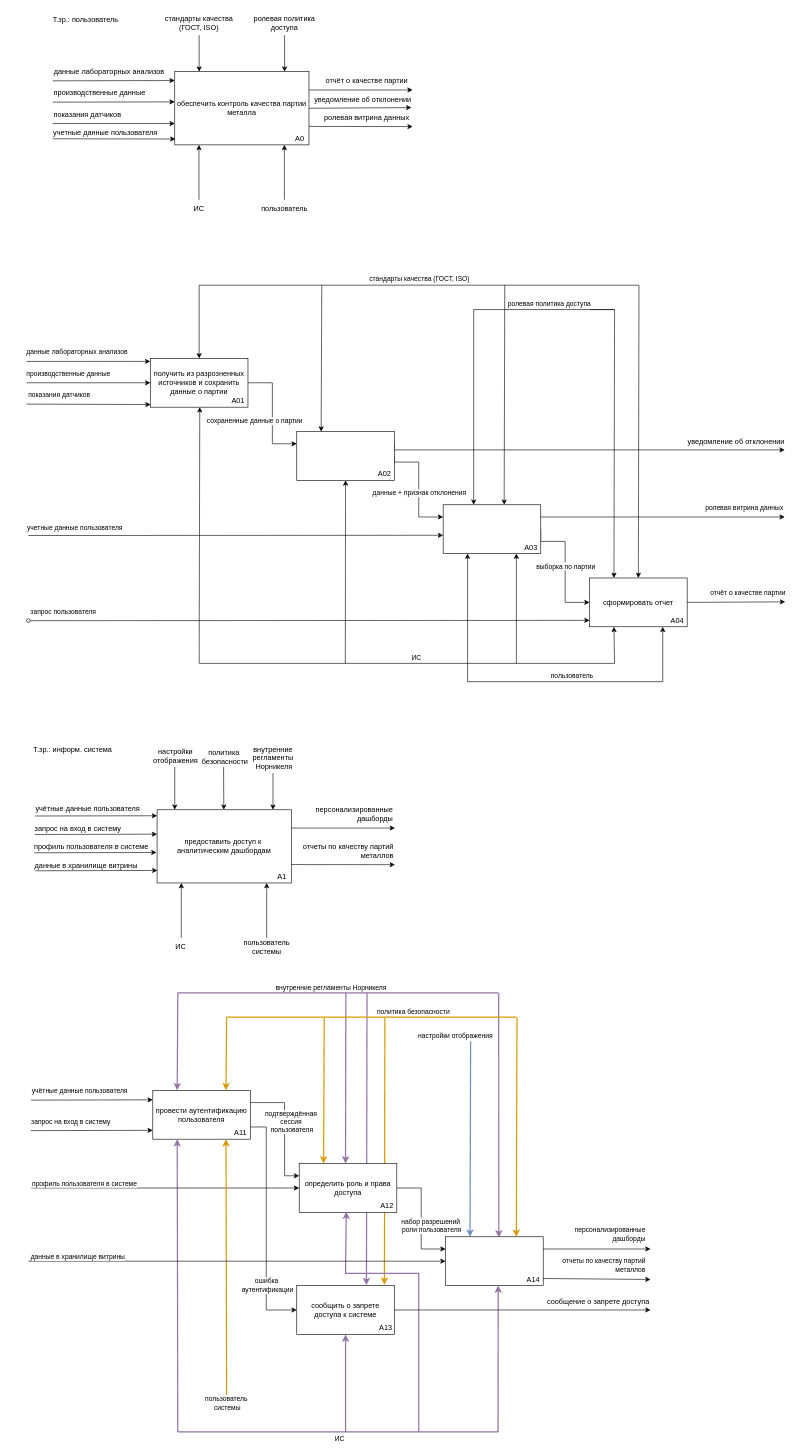
This 807x1452 diagram has some shape labels left out. Each missing label, with the box of its shape:
предоставить ролевую витрину данных: (443, 504, 541, 554)
проверить показатели на признак отклонений: (296, 431, 394, 480)
сформировать и отобразить дашборды: (445, 1236, 543, 1286)
